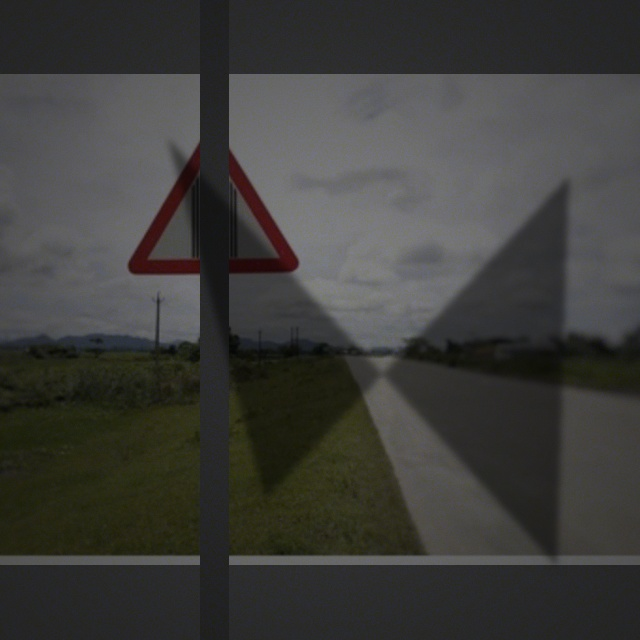Gap_in_Median: (128, 127, 305, 278)
